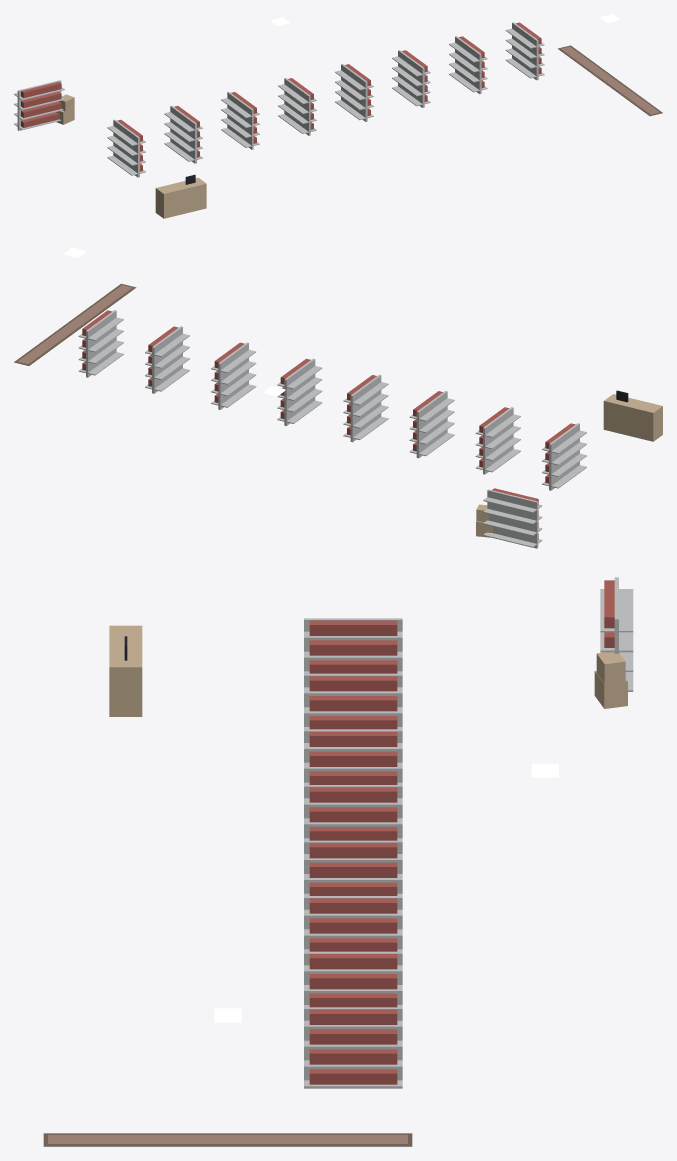
File: fine-s0.glb
The picture shows the model from 3 angles, top to bottom: view 1: azimuth 30°, elevation 25°; view 2: azimuth 150°, elevation 25°; view 3: azimuth 270°, elevation 25°; orthographic projection. The views are drawn at different scales.
Visible parts, largest first — view 1: shelving.000, shop-counter.000, shelf.007, shelf.006, shelf.002, shelf.003, shelf.005, shelf.000, shelf.001, shelf.004, soft-s0, cardboard-box.000; view 2: shelving.000, shop-counter.000, shelf.005, shelf.007, shelf.000, shelf.001, shelf.002, shelf.003, shelf.006, shelf.004, soft-s0; view 3: shelf.007, shelf.001, shelf.006, shelf.000, shelf.002, shelf.003, shelf.004, shelf.005, soft-s0, shop-counter.000, shelving.000, cardboard-box.000.
Part boxes in pixels (<box>): shelving.000: <box>14,80,64,130</box>; shop-counter.000: <box>155,174,206,218</box>; shelf.007: <box>505,22,544,80</box>; shelf.006: <box>449,36,487,94</box>; shelf.002: <box>221,92,259,149</box>; shelf.003: <box>278,78,316,135</box>; shelf.005: <box>392,50,430,107</box>; shelf.000: <box>107,119,145,177</box>; shelf.001: <box>164,105,202,163</box>; shelf.004: <box>335,64,373,121</box>; soft-s0: <box>558,45,662,116</box>; cardboard-box.000: <box>56,94,74,124</box>; shelving.000: <box>483,488,542,548</box>; shop-counter.000: <box>603,390,662,441</box>; shelf.005: <box>211,342,256,409</box>; shelf.007: <box>78,310,123,377</box>; shelf.000: <box>542,423,586,490</box>; shelf.001: <box>475,407,520,474</box>; shelf.002: <box>409,391,454,458</box>; shelf.003: <box>343,374,388,442</box>; shelf.006: <box>145,326,189,393</box>; shelf.004: <box>277,358,322,425</box>; soft-s0: <box>14,283,136,365</box>; shelf.007: <box>304,1007,402,1088</box>; shelf.001: <box>304,673,402,729</box>; shelf.006: <box>304,951,402,1007</box>; shelf.000: <box>304,618,402,673</box>; shelf.002: <box>304,729,402,784</box>; shelf.003: <box>304,785,402,840</box>; shelf.004: <box>304,840,402,895</box>; shelf.005: <box>304,896,402,951</box>; soft-s0: <box>43,1133,412,1146</box>; shop-counter.000: <box>109,625,142,716</box>; shelving.000: <box>600,577,633,691</box>; cardboard-box.000: <box>594,652,627,708</box>.
Size of the model in its own units: 21.14 by 2.53 by 10.76.
